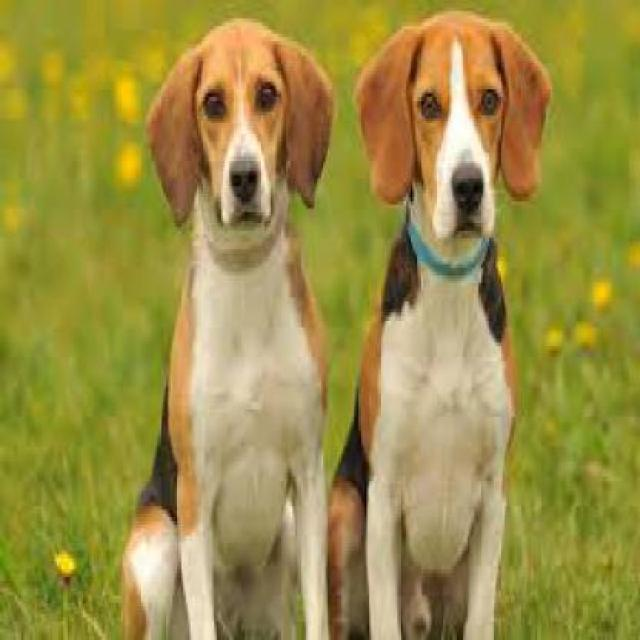Dog: (117, 8, 341, 635), (328, 4, 549, 638)
